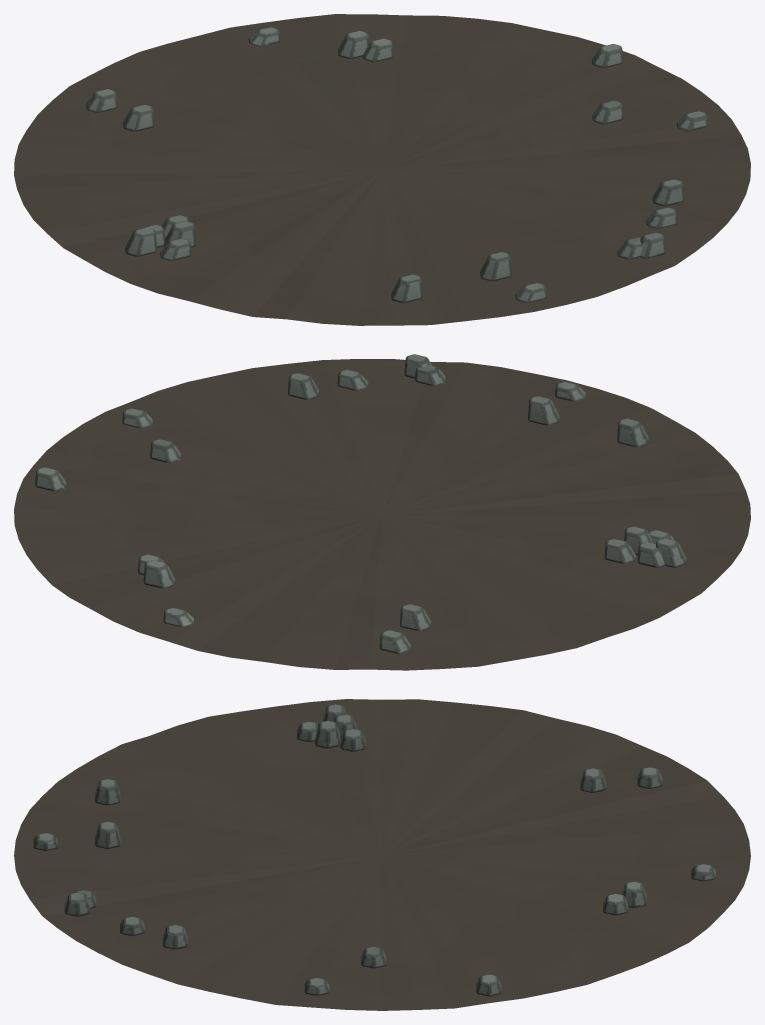
Rendered from scenic_ground.glb.
3 renders of one model, top to bottom at view 1: azimuth 30°, elevation 25°; view 2: azimuth 150°, elevation 25°; view 3: azimuth 270°, elevation 25°, orthographic.
Parts seen in each view (by area): view 1: GT_SharedScenicGround; view 2: GT_SharedScenicGround; view 3: GT_SharedScenicGround.
Part boxes in pixels (bbox=[...]): GT_SharedScenicGround: bbox=[14, 14, 750, 325]; GT_SharedScenicGround: bbox=[14, 354, 750, 670]; GT_SharedScenicGround: bbox=[14, 699, 750, 1010].
Bounding box in the file's own units: 1.19 × 0.0382 × 1.19.
1 material, 1 textured.
